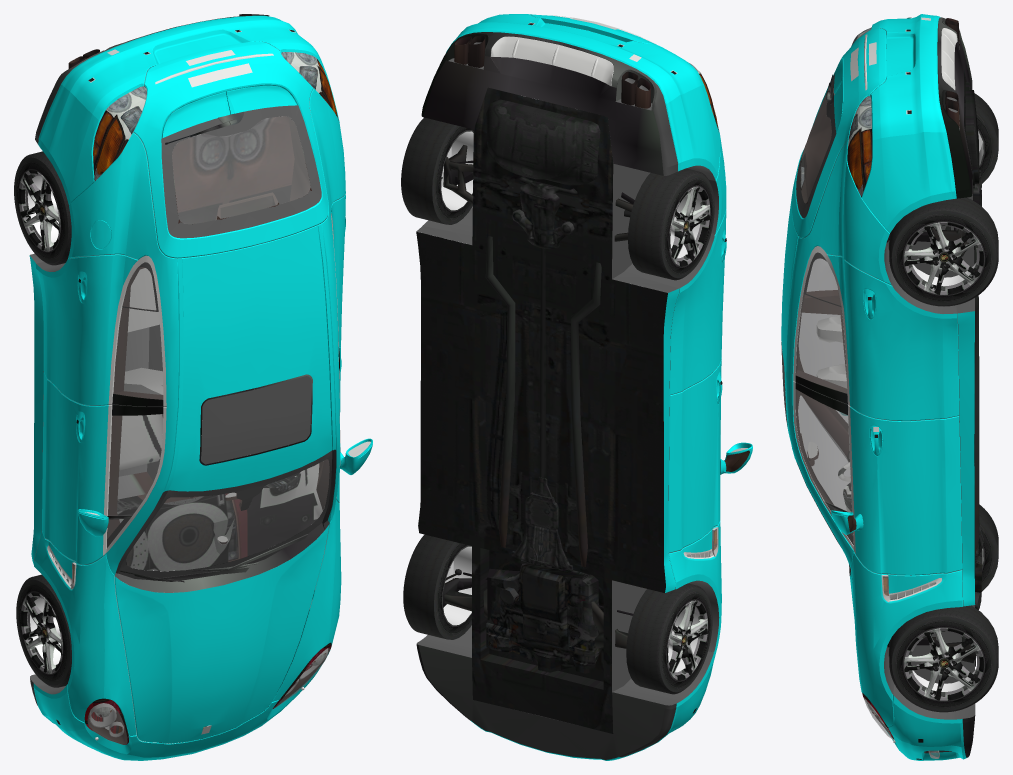
The picture shows the model from 3 angles, left to right: view 1: azimuth 30°, elevation 25°; view 2: azimuth 150°, elevation 25°; view 3: azimuth 270°, elevation 25°; orthographic projection. The views are drawn at different scales.
Parts seen in each view (by area): view 1: object0, Object01, Object02; view 2: object0, Object01, Object02; view 3: object0, Object01, Object02.
Boxes of the visible parts, x1,y1,x2,y2 form: object0: (27, 14, 372, 760); Object01: (14, 151, 290, 687); Object02: (18, 170, 62, 673); object0: (416, 14, 752, 760); Object01: (401, 117, 714, 694); Object02: (441, 177, 710, 680); object0: (781, 14, 983, 760); Object01: (889, 93, 998, 712); Object02: (904, 222, 983, 700).
Bounding box in the file's own units: 27.29 × 63.87 × 18.18.
11 materials, 7 textured.
